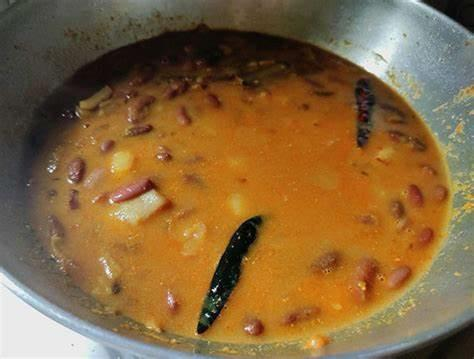RajmaCurry: (29, 25, 451, 335)
